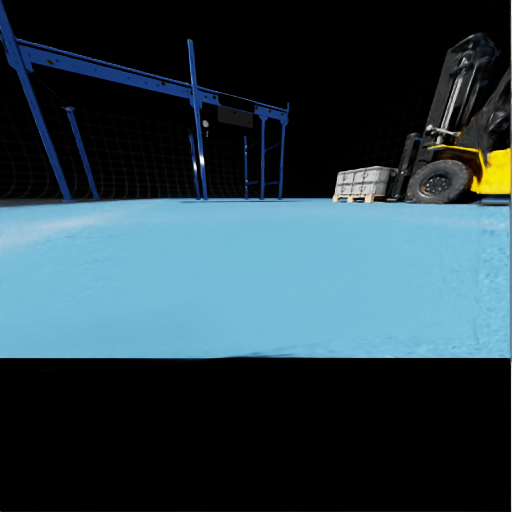transportation_area: (352, 181, 393, 194), (356, 194, 364, 197), (95, 69, 96, 70)
